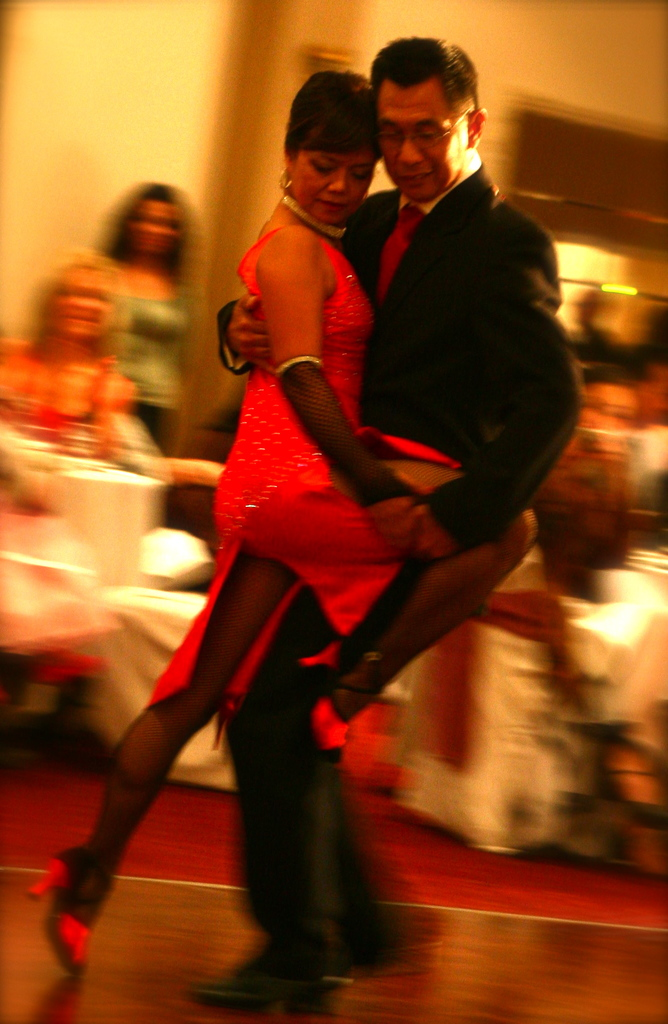Human_hand: (225, 293, 267, 361), (406, 503, 455, 558)
